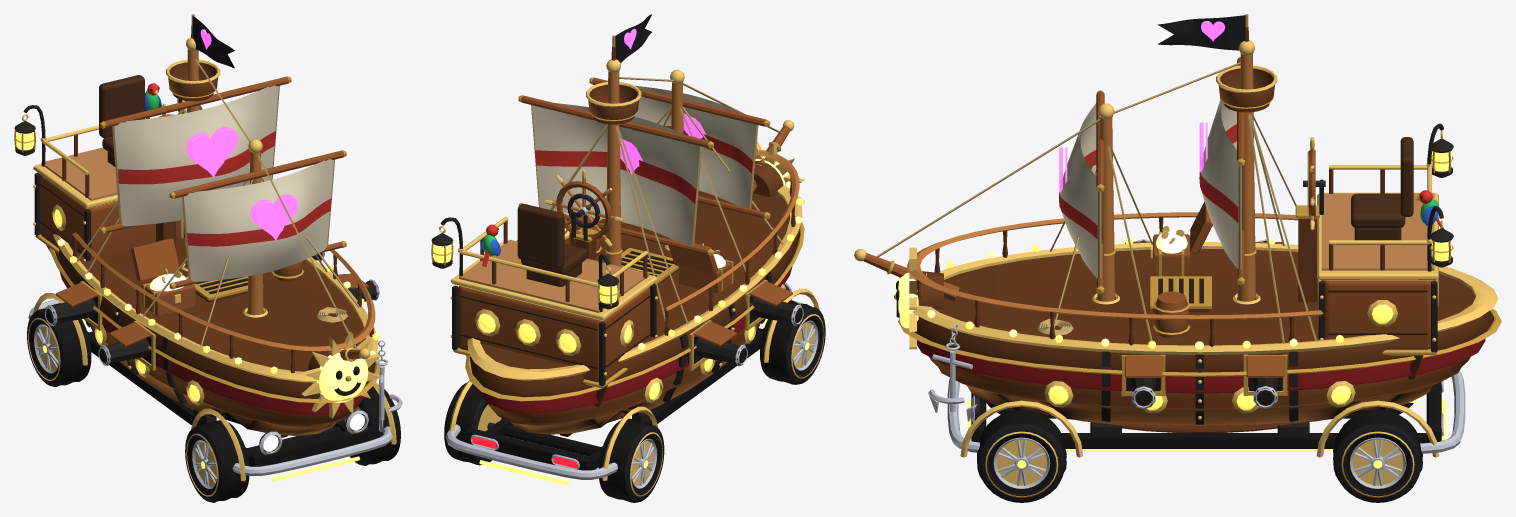
File: dusty_doubloon.glb
3 renders of one model, left to right at view 1: azimuth 30°, elevation 25°; view 2: azimuth 150°, elevation 25°; view 3: azimuth 270°, elevation 25°, orthographic. The views are drawn at different scales.
Visible parts, largest first — view 1: strake_4, sailMain_front, sailFore_front, castle, gunwale, wheel_FR_tyre, wheel_RR_tyre, strake_3, strake_2, castle_deck, toprail, sailMain_band_f (+30 smaller); view 2: strake_4, sailMain_back, castle, sailFore_back, castle_deck, gunwale, wheel_RR_tyre, strake_3, wheel_FR_tyre, seat_back, strake_2, mast_main (+39 smaller); view 3: strake_4, gunwale, strake_3, strake_2, castle, strake_1, castle_deck, wheel_FL_tyre, wheel_RL_tyre, toprail, rail_1, sailMain_front (+28 smaller).
Boxes of the visible parts, x1=… form: strake_4: x1=55, y1=237, x2=375, y2=398; sailMain_front: x1=114, y1=85, x2=278, y2=226; sailFore_front: x1=184, y1=159, x2=333, y2=281; castle: x1=40, y1=175, x2=181, y2=258; gunwale: x1=53, y1=234, x2=378, y2=382; wheel_FR_tyre: x1=185, y1=420, x2=249, y2=502; wheel_RR_tyre: x1=27, y1=308, x2=91, y2=386; strake_3: x1=59, y1=271, x2=368, y2=415; strake_2: x1=85, y1=320, x2=357, y2=427; castle_deck: x1=41, y1=147, x2=117, y2=200; toprail: x1=72, y1=232, x2=375, y2=351; sailMain_band_f: x1=117, y1=131, x2=276, y2=184; strake_4: x1=469, y1=190, x2=800, y2=397; sailMain_back: x1=532, y1=104, x2=699, y2=244; castle: x1=458, y1=286, x2=650, y2=382; sailFore_back: x1=634, y1=87, x2=755, y2=208; castle_deck: x1=459, y1=239, x2=649, y2=312; gunwale: x1=467, y1=185, x2=802, y2=380; wheel_RR_tyre: x1=598, y1=418, x2=664, y2=502; strake_3: x1=476, y1=266, x2=792, y2=413; wheel_FR_tyre: x1=760, y1=300, x2=825, y2=384; seat_back: x1=517, y1=204, x2=564, y2=268; strake_2: x1=488, y1=284, x2=784, y2=425; mast_main: x1=606, y1=71, x2=621, y2=266; strake_4: x1=914, y1=248, x2=1493, y2=372; gunwale: x1=912, y1=242, x2=1498, y2=354; strake_3: x1=917, y1=339, x2=1485, y2=393; strake_2: x1=929, y1=356, x2=1470, y2=410; castle: x1=1321, y1=280, x2=1434, y2=349; strake_1: x1=966, y1=385, x2=1433, y2=426; castle_deck: x1=1321, y1=193, x2=1434, y2=270; wheel_FL_tyre: x1=977, y1=410, x2=1066, y2=502; wheel_RL_tyre: x1=1333, y1=410, x2=1422, y2=502; toprail: x1=907, y1=212, x2=1323, y2=320; rail_1: x1=1061, y1=433, x2=1427, y2=448; sailMain_front: x1=1201, y1=100, x2=1238, y2=269.
Bounding box in the file's own units: 3.79 × 5.19 × 6.91.
